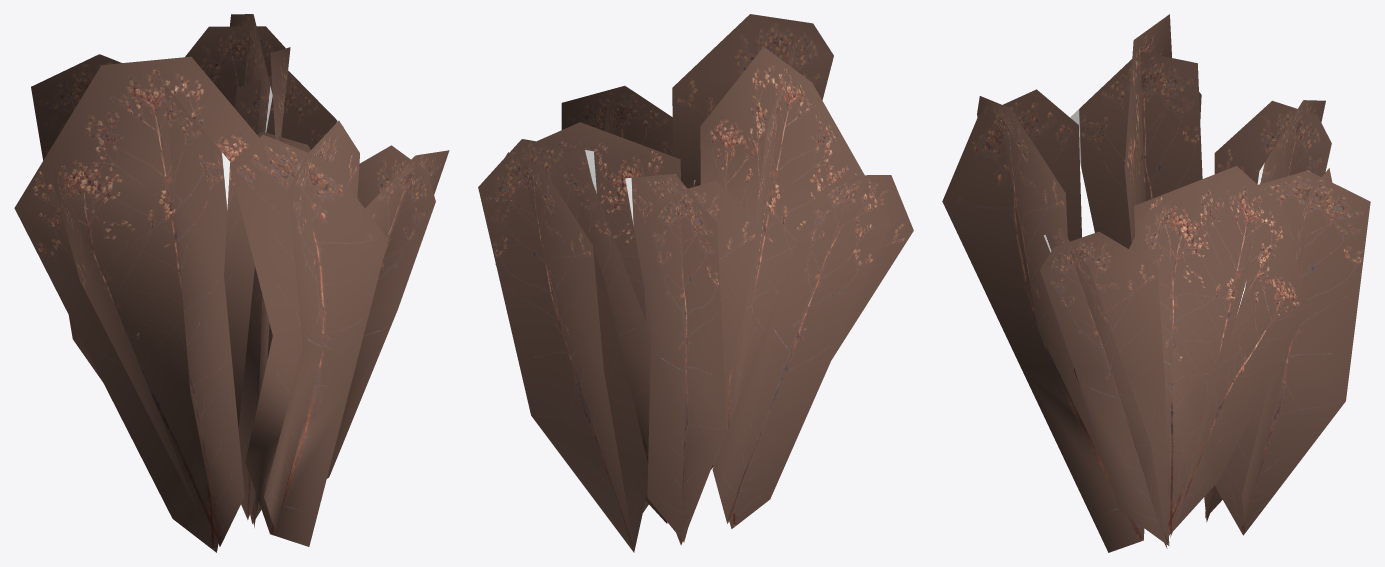
Rendered from Grass_C_1.fbx.
3 views of the same model, side by side, from view 1: azimuth 30°, elevation 25°; view 2: azimuth 150°, elevation 25°; view 3: azimuth 270°, elevation 25° (orthographic). The views are drawn at different scales.
Visible parts, largest first — view 1: Grass_C_1; view 2: Grass_C_1; view 3: Grass_C_1.
Part boxes in pixels (<box>): Grass_C_1: <box>14,14,449,552</box>; Grass_C_1: <box>478,14,913,552</box>; Grass_C_1: <box>942,14,1370,552</box>.
Bounding box in the file's own units: 0.8754 × 1.09 × 0.9057.
